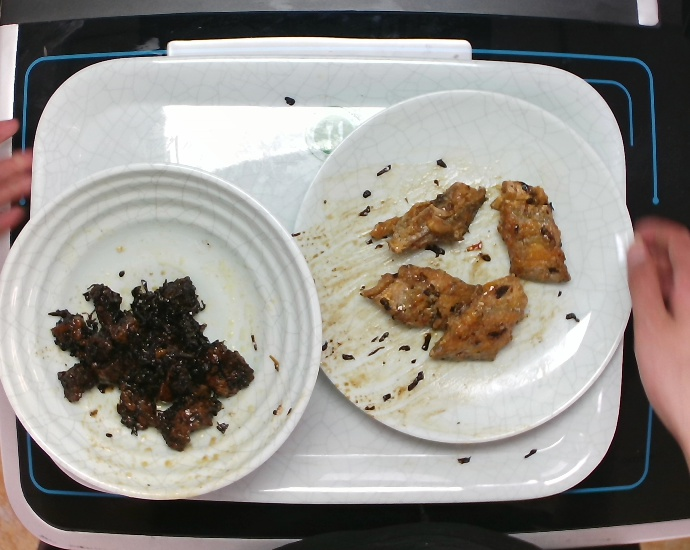JYsf-Da_Tang_Wan: (1, 164, 322, 498)
JYsf-Da_Yuan_Pan: (286, 88, 635, 442)
